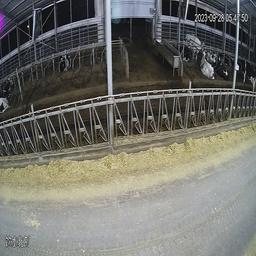cow: (239, 52, 255, 93), (185, 29, 204, 61), (199, 52, 216, 82), (58, 48, 74, 76), (178, 39, 191, 65), (218, 57, 230, 84)
